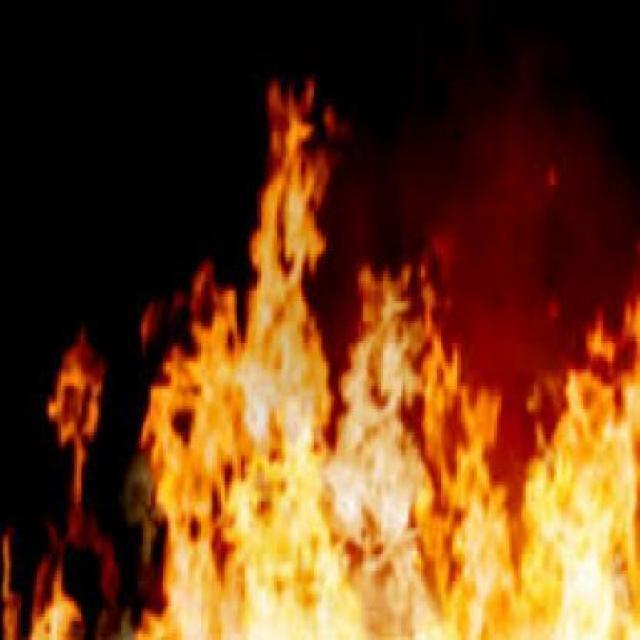Fire: (91, 179, 640, 640)
